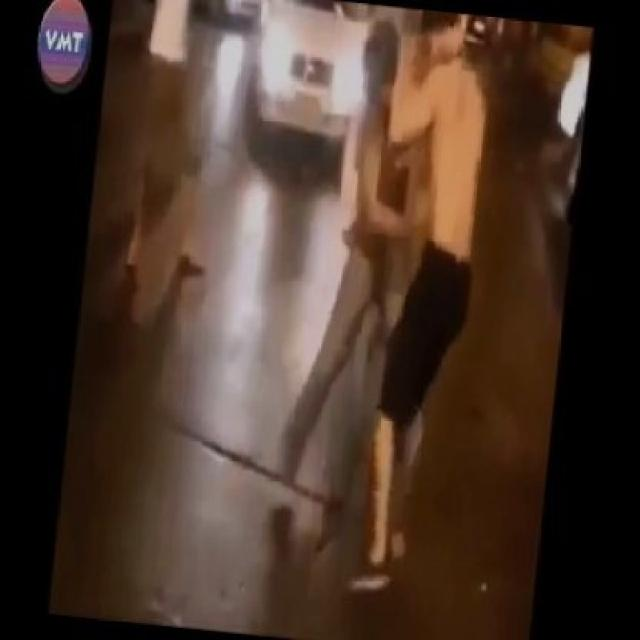fight: (279, 0, 486, 599)
